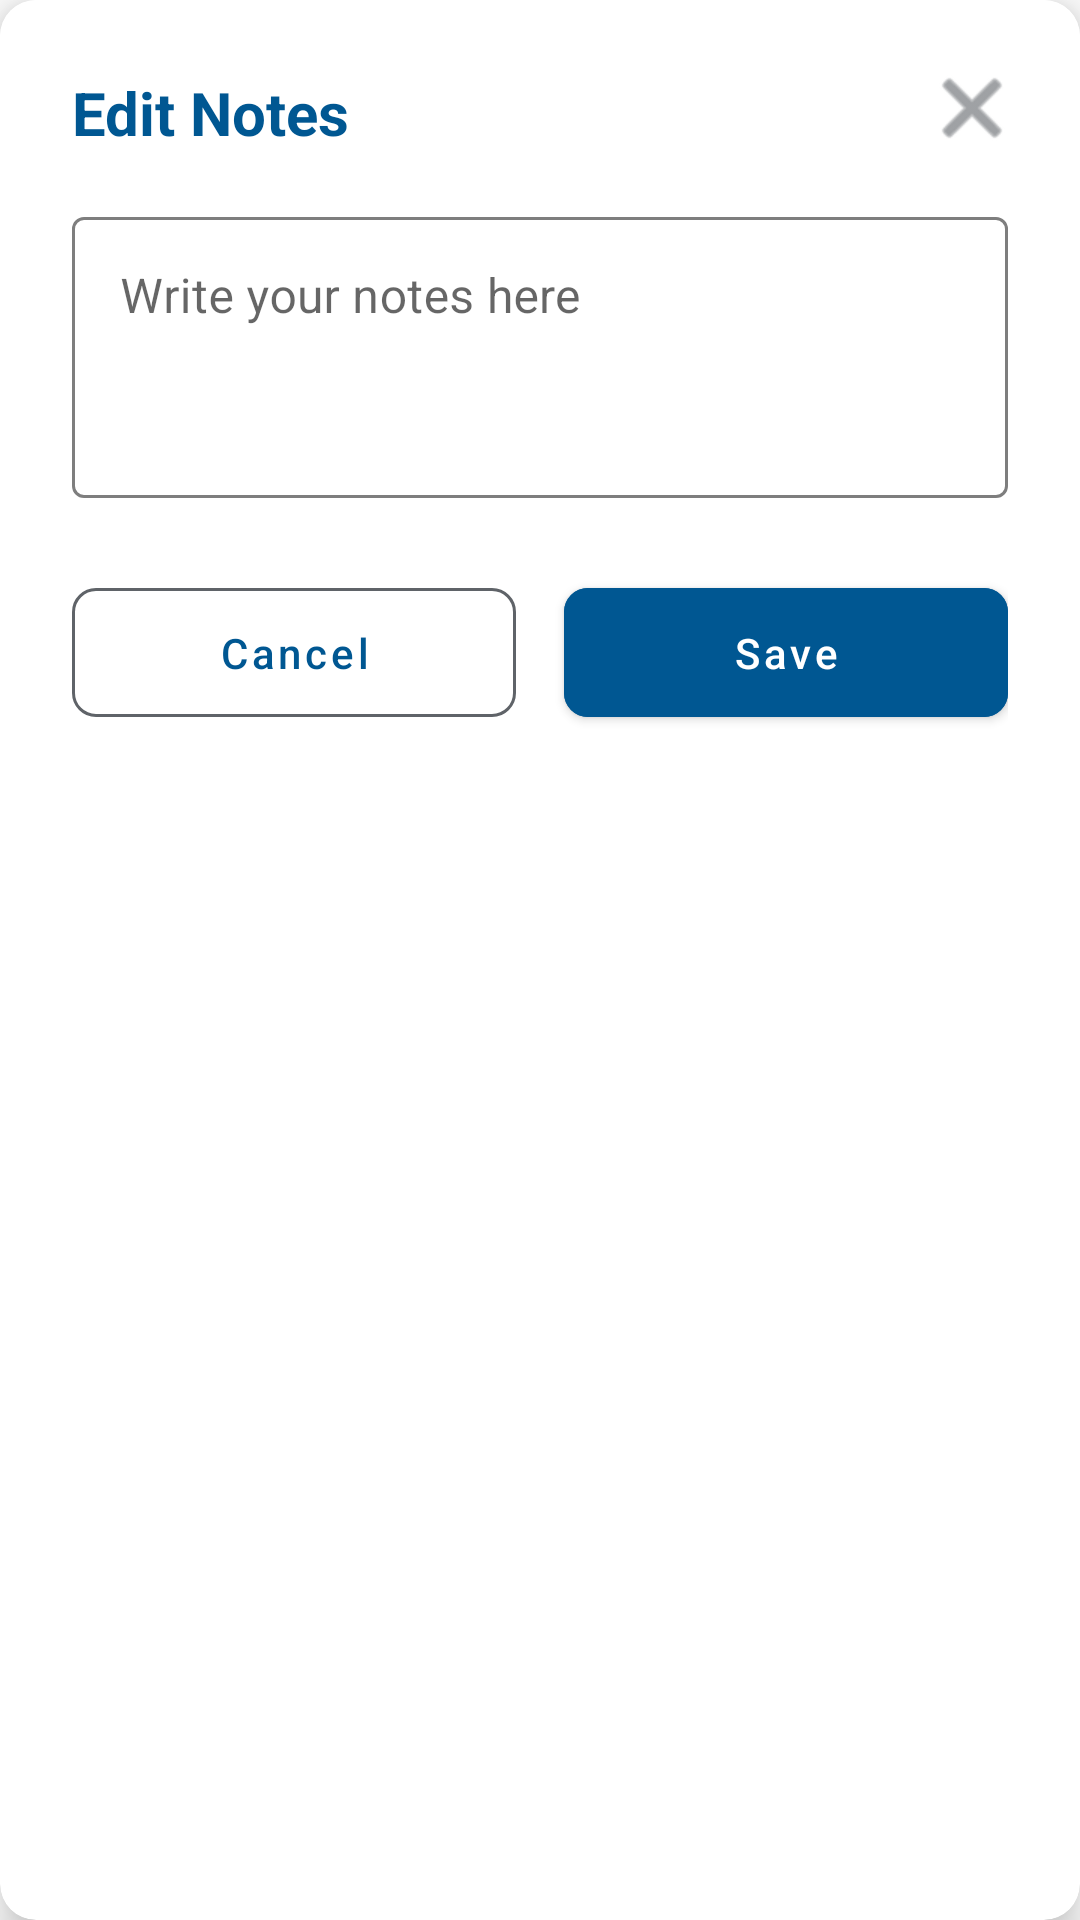

Where icons sit on this 1080x1920 app screen, as (x1, y1, x2, y2):
Fechar: (942, 78, 1002, 138)
